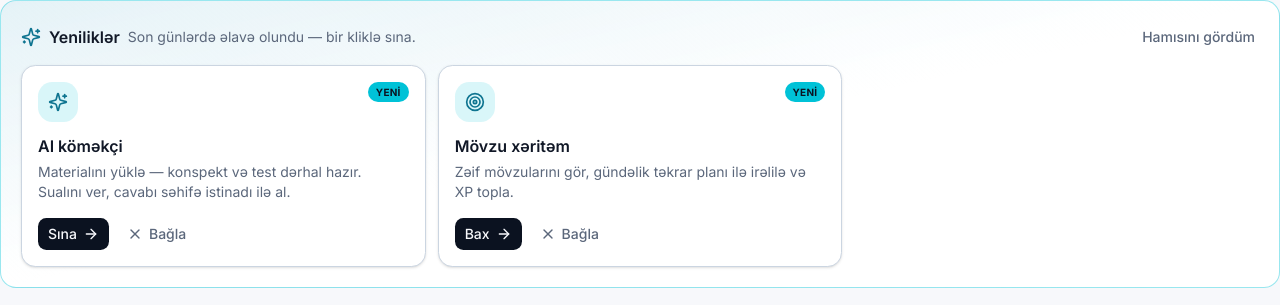
Scenario: Yeniliklər cards › closes one card and stores the dismissal on the server
Click the button with aria-label "“AI köməkçi” kartını bağla": click(157, 234) [117,218,196,250]
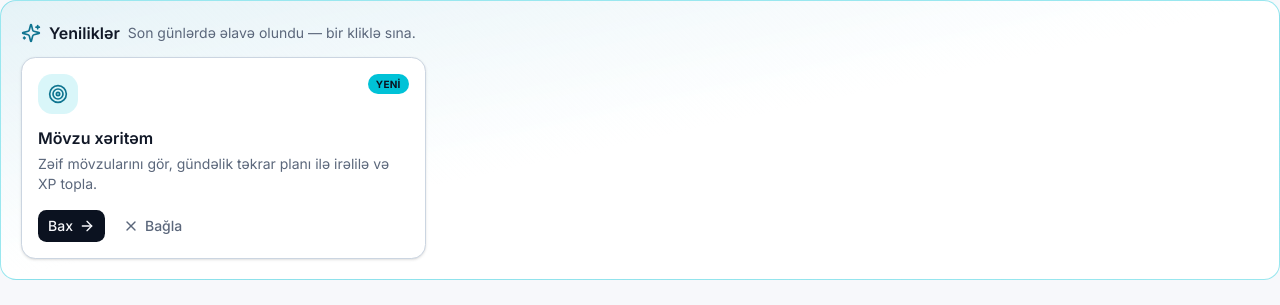
Expected: the text "Mövzu xəritəm" is shown, [38,128,153,148]
Now the text "AI köməkçi" is gone
